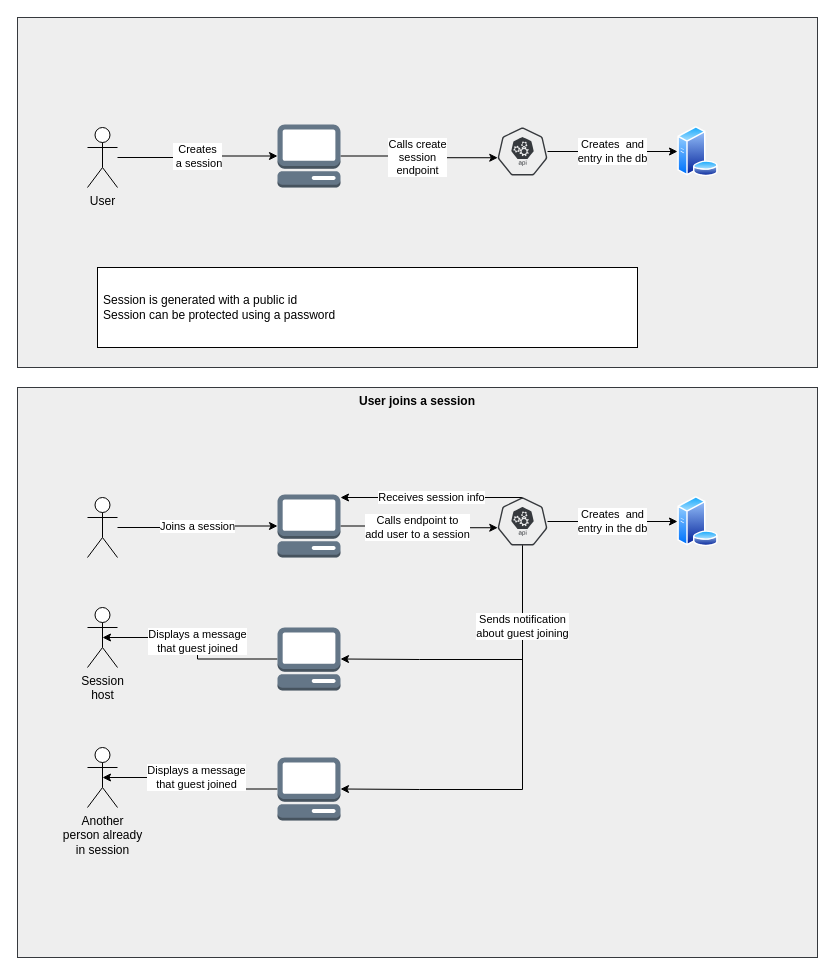
Some shapes in this 835 by 975 pixel diagram are drawn without their labels. The box of each missing label's shape, as (x1, y1, x2, y2) in pixels:
Create session: (16, 16, 818, 368)
Guest: (86, 496, 118, 558)
